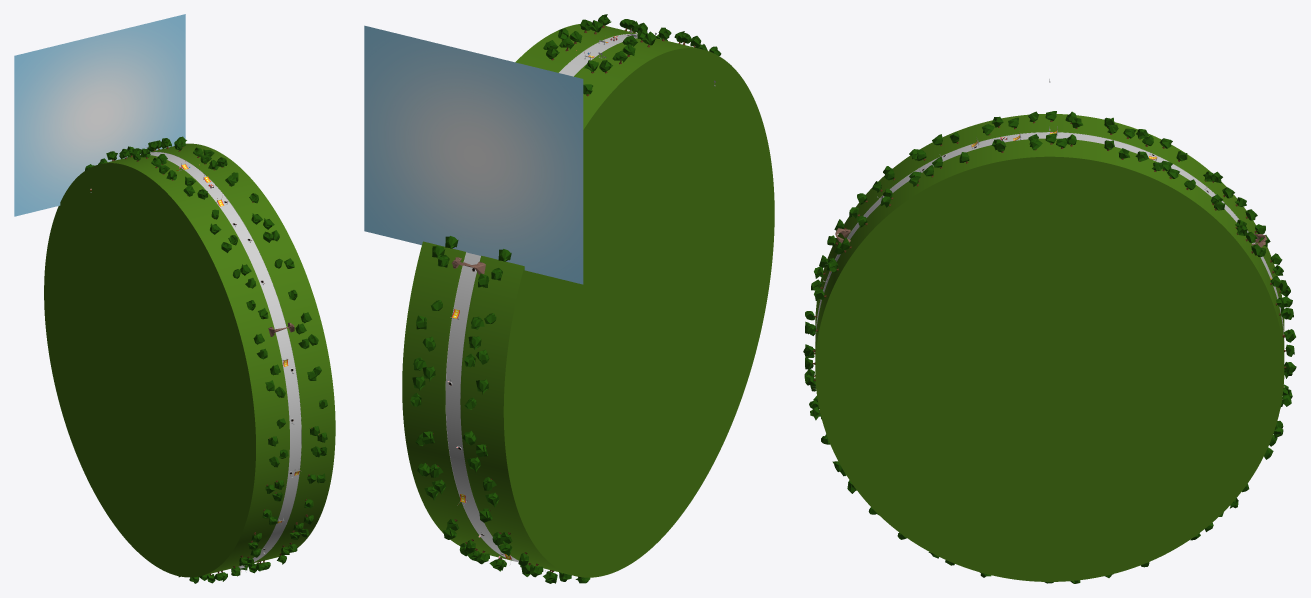
File: car.FBX
The picture shows the model from 3 angles, left to right: view 1: azimuth 30°, elevation 25°; view 2: azimuth 150°, elevation 25°; view 3: azimuth 270°, elevation 25°; orthographic projection. The views are drawn at different scales.
Visible parts, largest first — view 1: ground_base, Plane001; view 2: ground_base, Plane001; view 3: ground_base.
Part boxes in pixels (bbox=[...]): ground_base: bbox=[44, 143, 335, 577]; Plane001: bbox=[14, 14, 185, 216]; ground_base: bbox=[402, 24, 774, 577]; Plane001: bbox=[364, 25, 583, 284]; ground_base: bbox=[815, 114, 1284, 581].
Size of the model in its own units: 8523 by 20369 by 17782.
